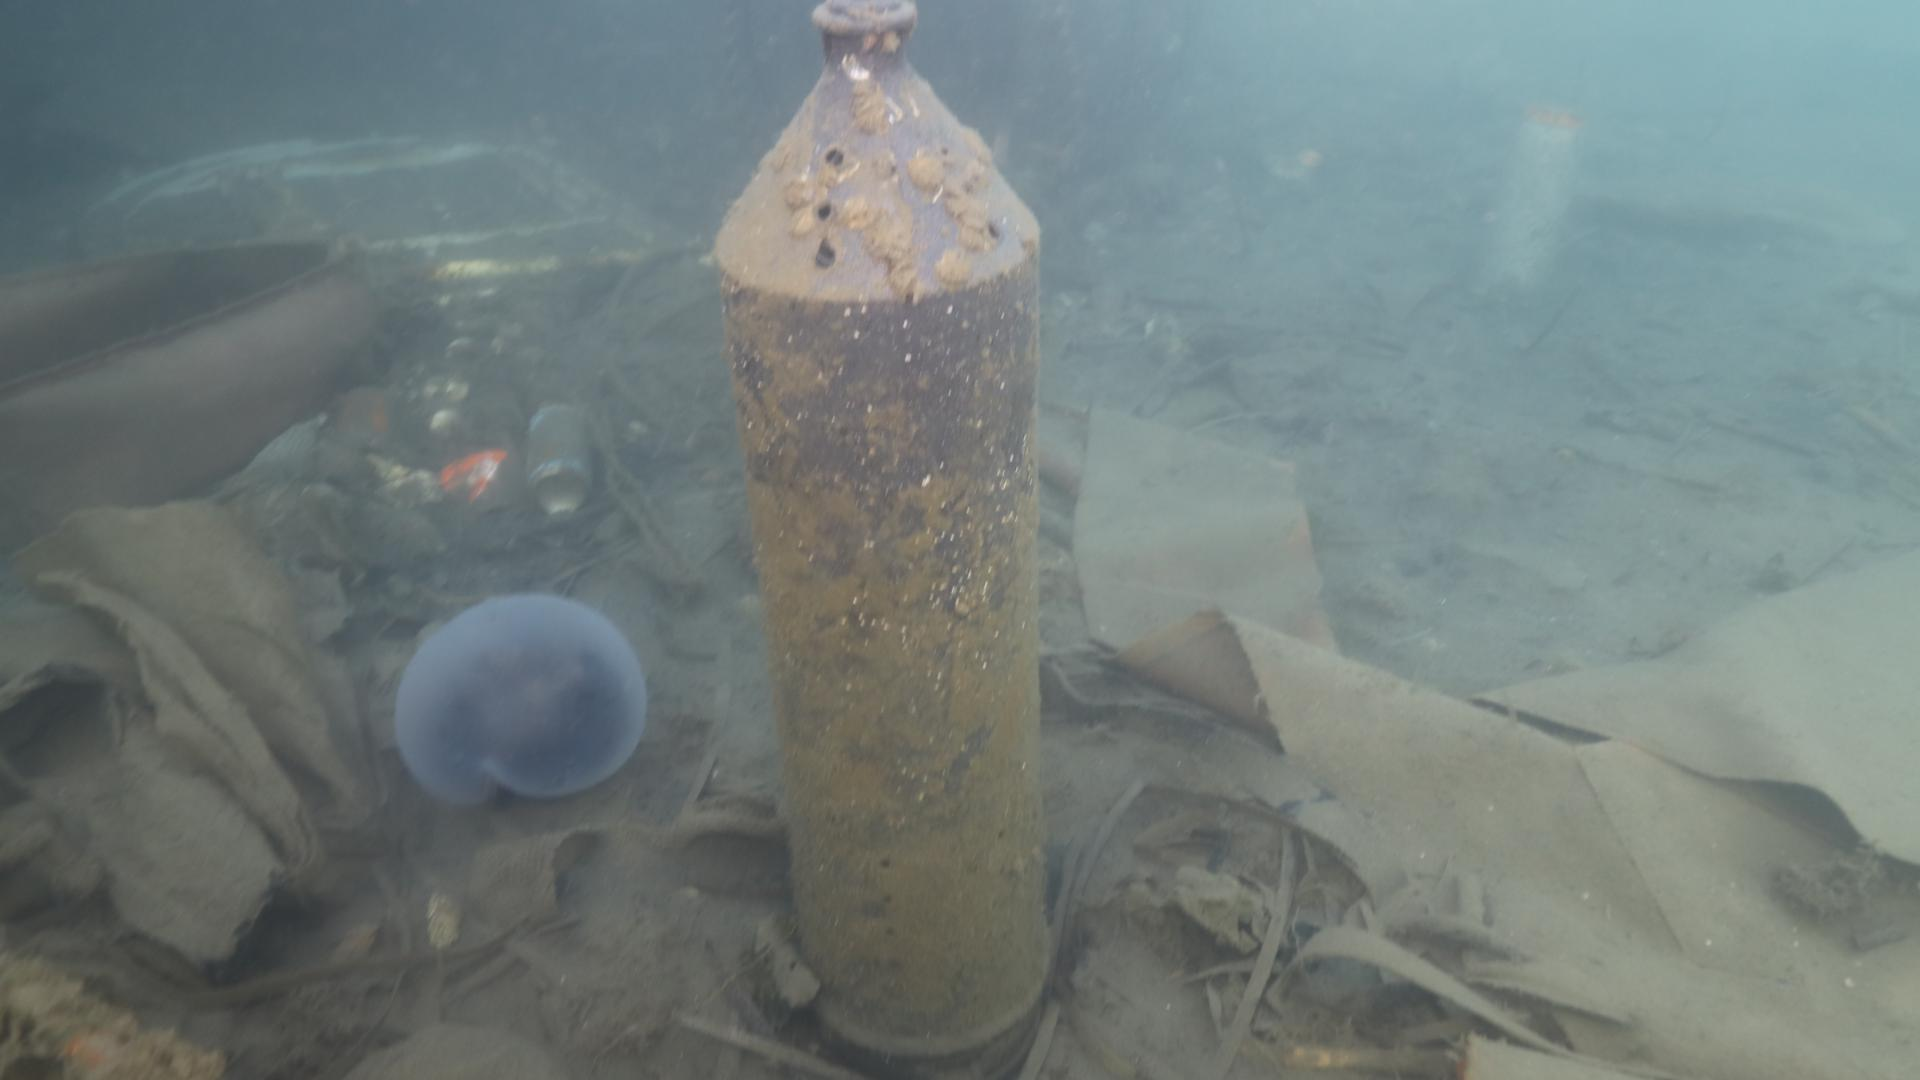eel fish trap: (709, 0, 1055, 1054)
